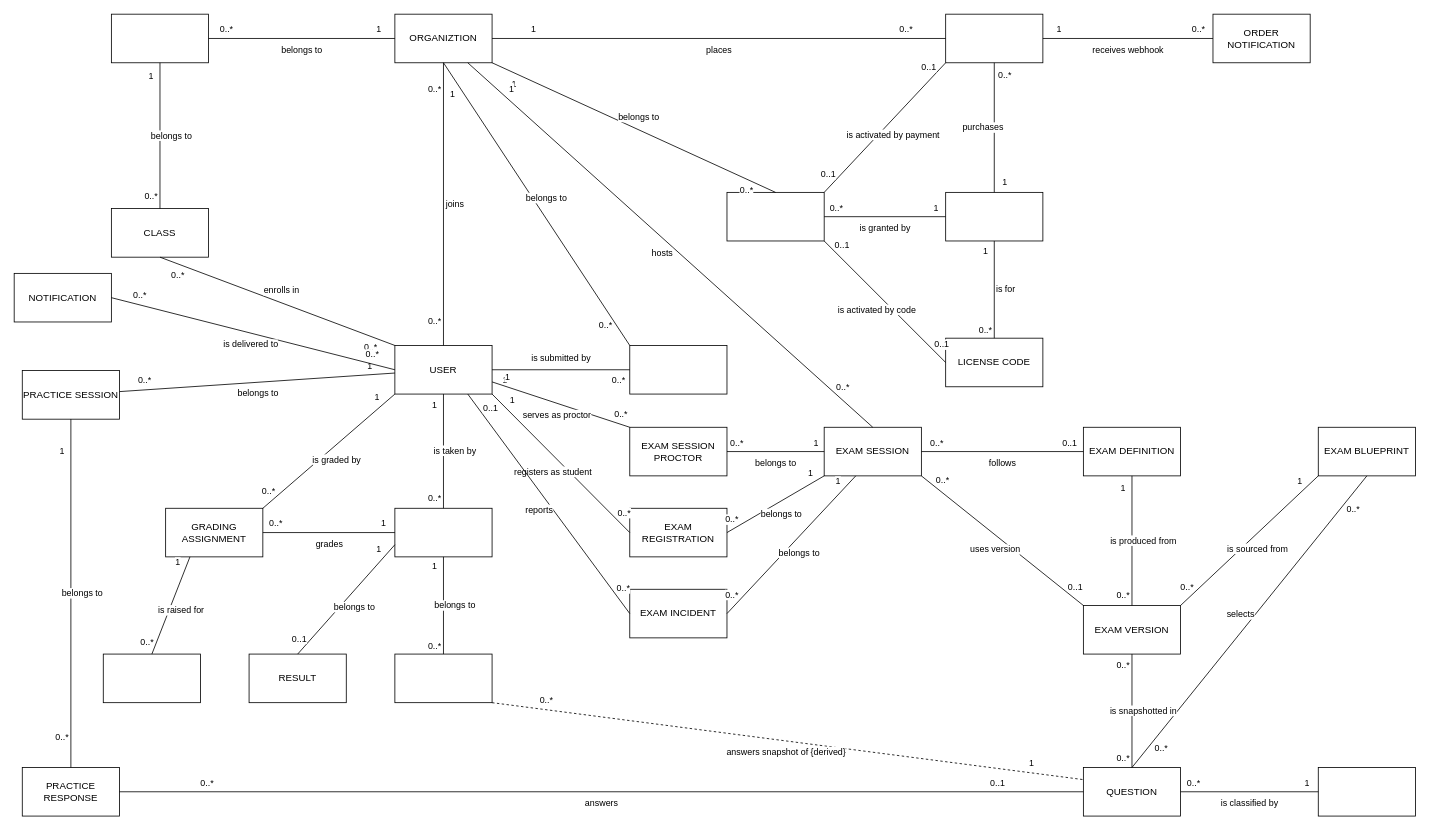
This 1430x830 diagram has some shape labels left out. Each missing label, with the box of its shape:
ATTEMP ANSWER: (394, 653, 492, 703)
EXAM ATTEMP: (394, 507, 492, 557)
GRADING ISSUE: (102, 653, 200, 703)
ORDER: (945, 13, 1043, 63)
PROGRAM: (111, 13, 209, 63)
QUESTION TYPE: (1317, 767, 1415, 816)
SERVICE PLAN: (945, 192, 1043, 241)
SUBSCRIPTION: (726, 192, 824, 241)
SUPPORT TICKET: (629, 345, 727, 394)
